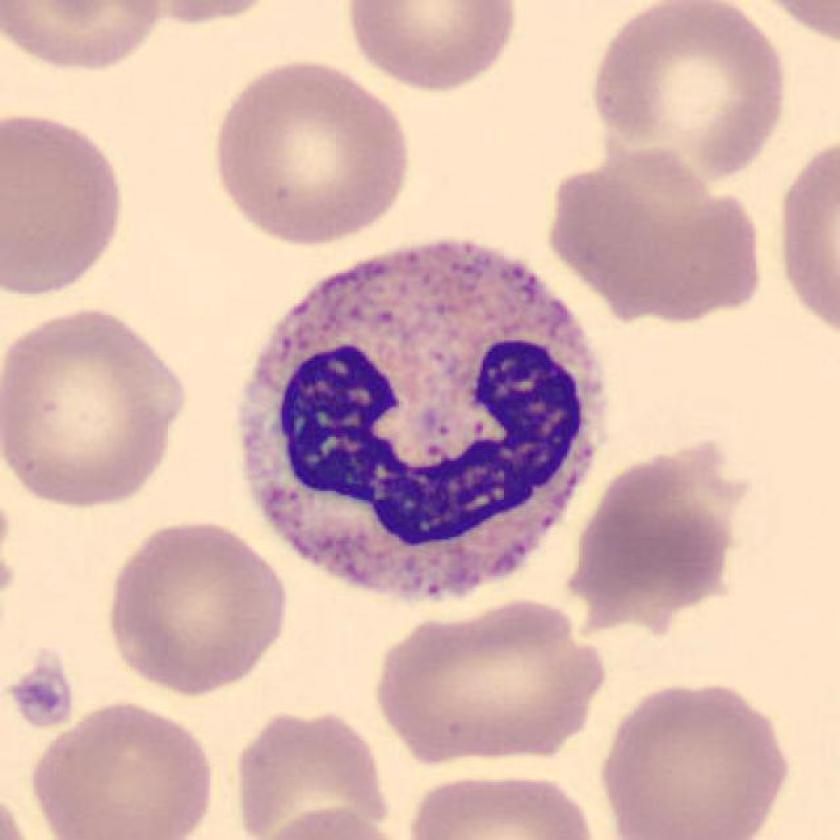neutrophil: (237, 244, 605, 596)
